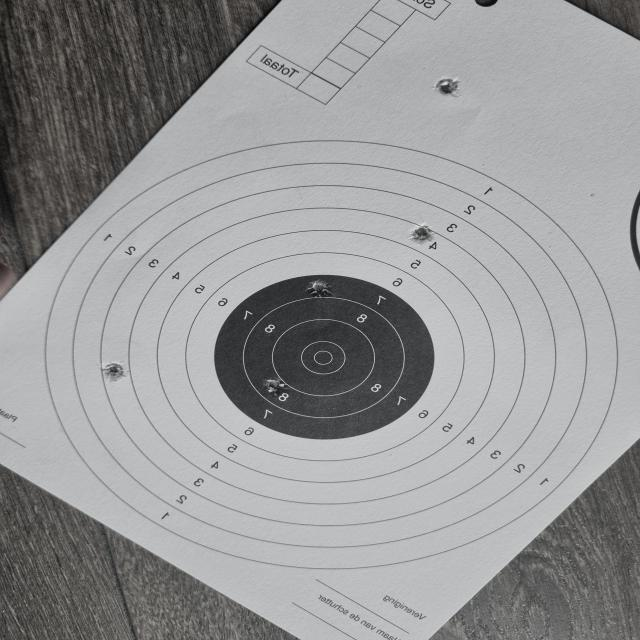0: (436, 78, 462, 98)
3: (101, 362, 126, 382)
4: (410, 225, 433, 243)
8: (305, 280, 331, 299), (264, 379, 286, 393)
Target: (40, 140, 620, 568)
black_contour: (215, 274, 434, 441)
